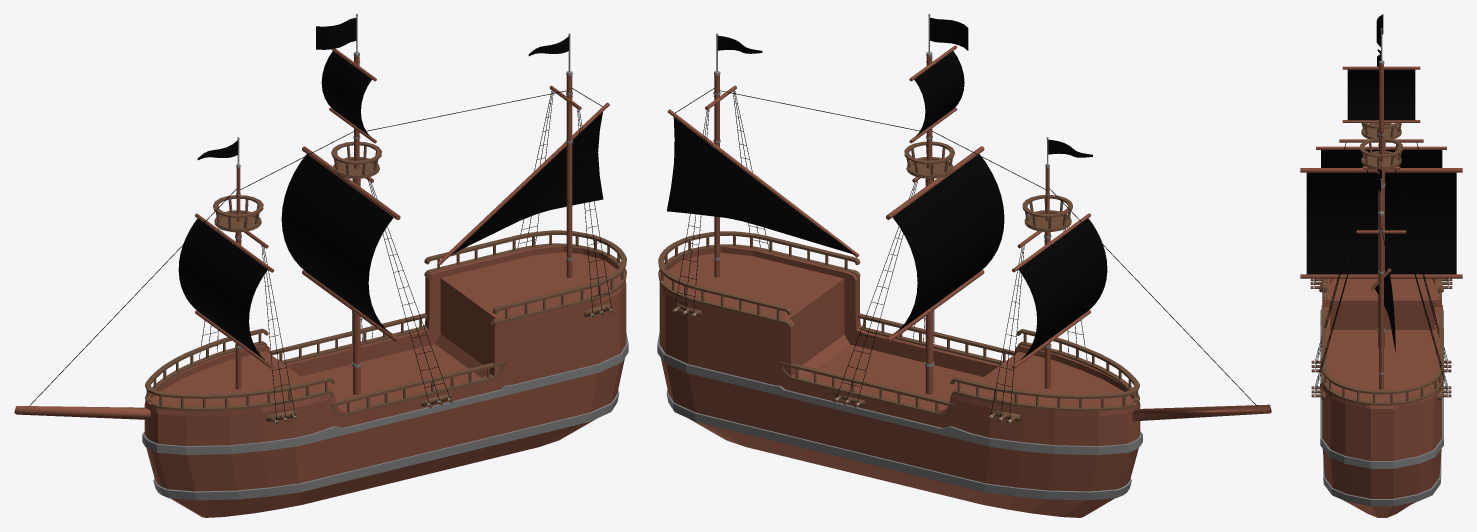
Rendered from Barco.pirata_LOD3.fbx.
3 views of the same model, side by side, from view 1: azimuth 30°, elevation 25°; view 2: azimuth 150°, elevation 25°; view 3: azimuth 270°, elevation 25° (orthographic). The views are drawn at different scales.
Visible parts, largest first — view 1: Bandera_3.258; view 2: Bandera_3.258; view 3: Bandera_3.258.
Boxes of the visible parts, left/top/right/bottom form: Bandera_3.258: left=14, top=14, right=628, bottom=517; Bandera_3.258: left=657, top=14, right=1271, bottom=517; Bandera_3.258: left=1300, top=14, right=1462, bottom=517.
Size of the model in its own units: 10282 by 7553 by 2777.
